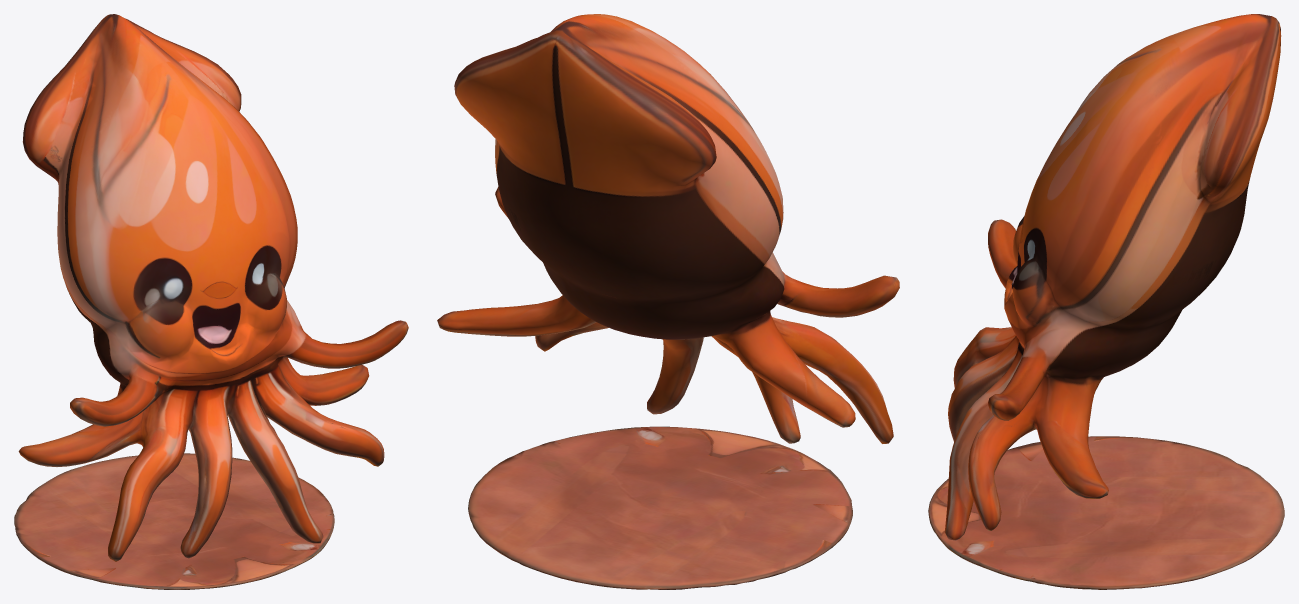
The model's file is Happy_Squid_Splash_0903040502_texture.fbx.
3 renders of one model, left to right at view 1: azimuth 30°, elevation 25°; view 2: azimuth 150°, elevation 25°; view 3: azimuth 270°, elevation 25°, orthographic. The views are drawn at different scales.
Visible parts, largest first — view 1: Mesh1.0; view 2: Mesh1.0; view 3: Mesh1.0.
Boxes of the visible parts, <box> form: Mesh1.0: <box>14,14,408,589</box>; Mesh1.0: <box>437,14,899,589</box>; Mesh1.0: <box>928,14,1284,589</box>.
Size of the model in its own units: 160 by 200 by 128.
Materials: 1 (1 with a texture image).
